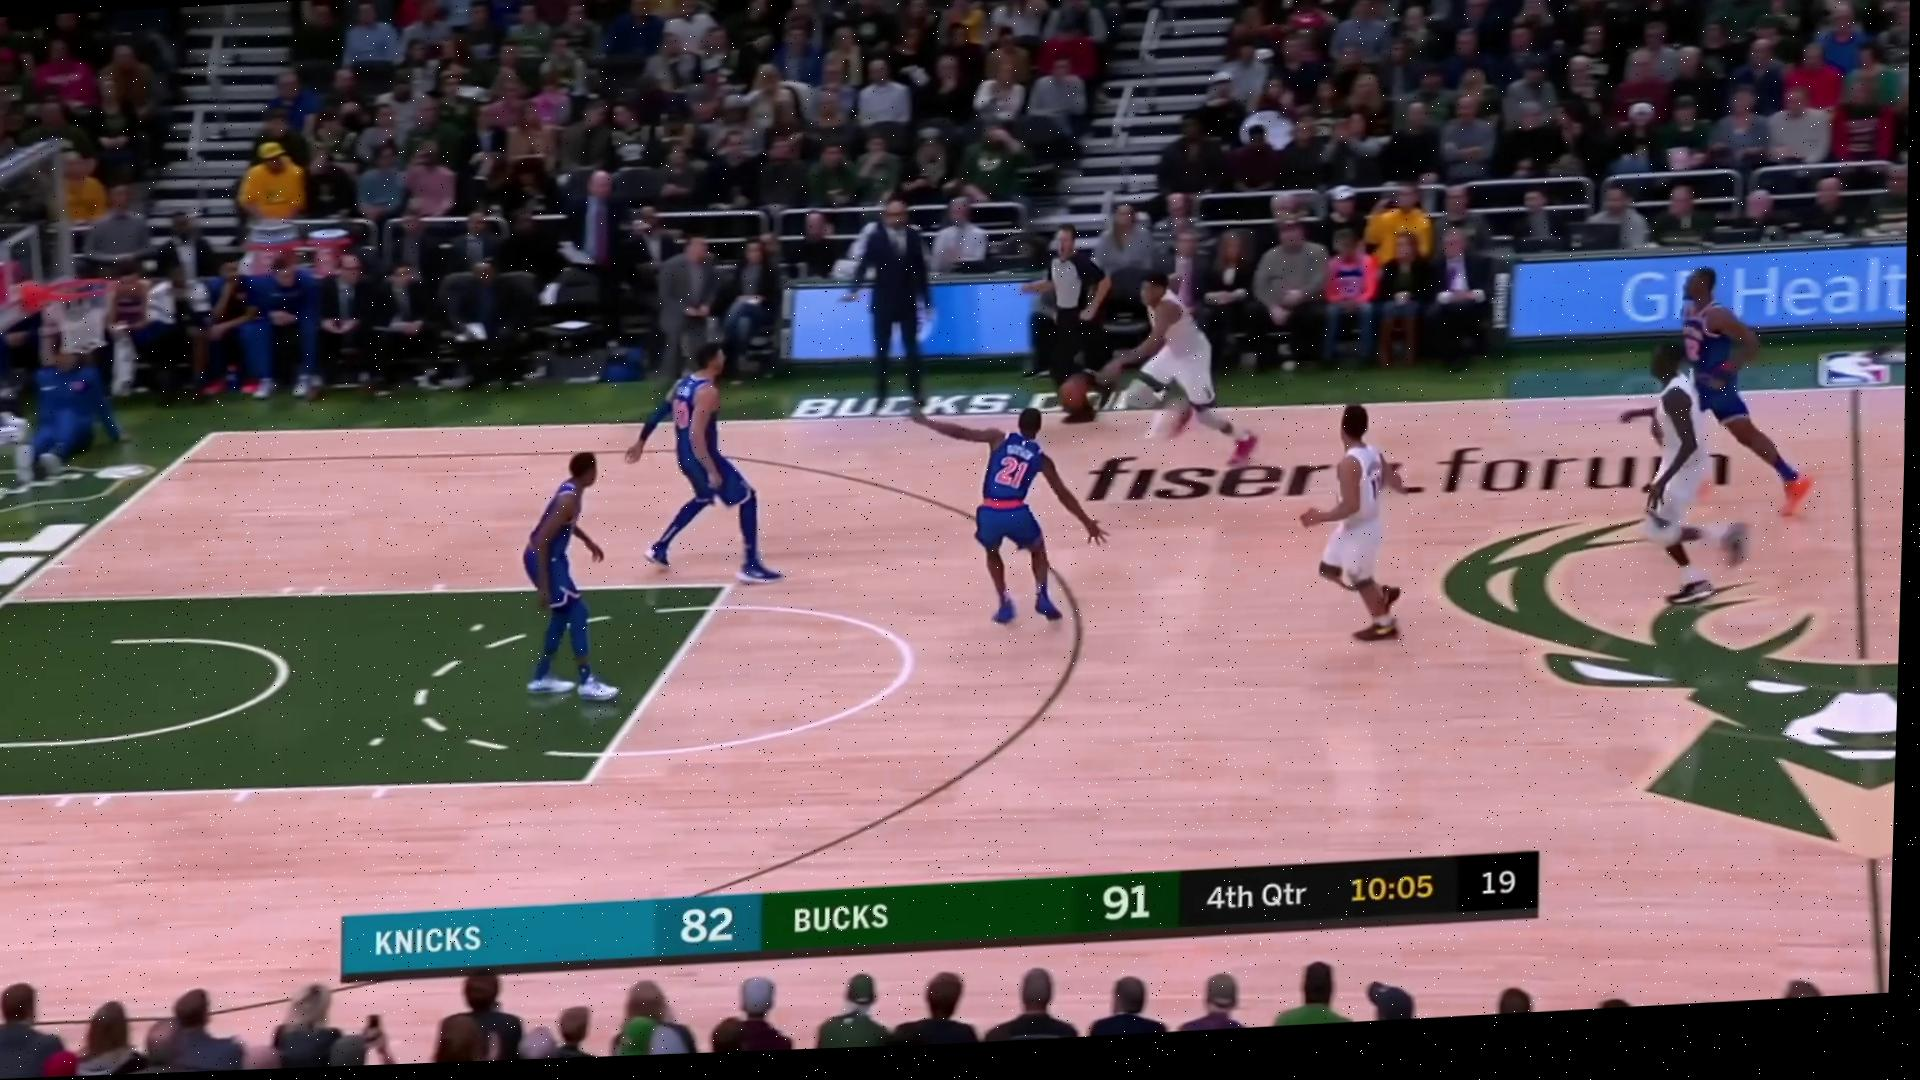no_foul: (1040, 253, 1282, 489)
